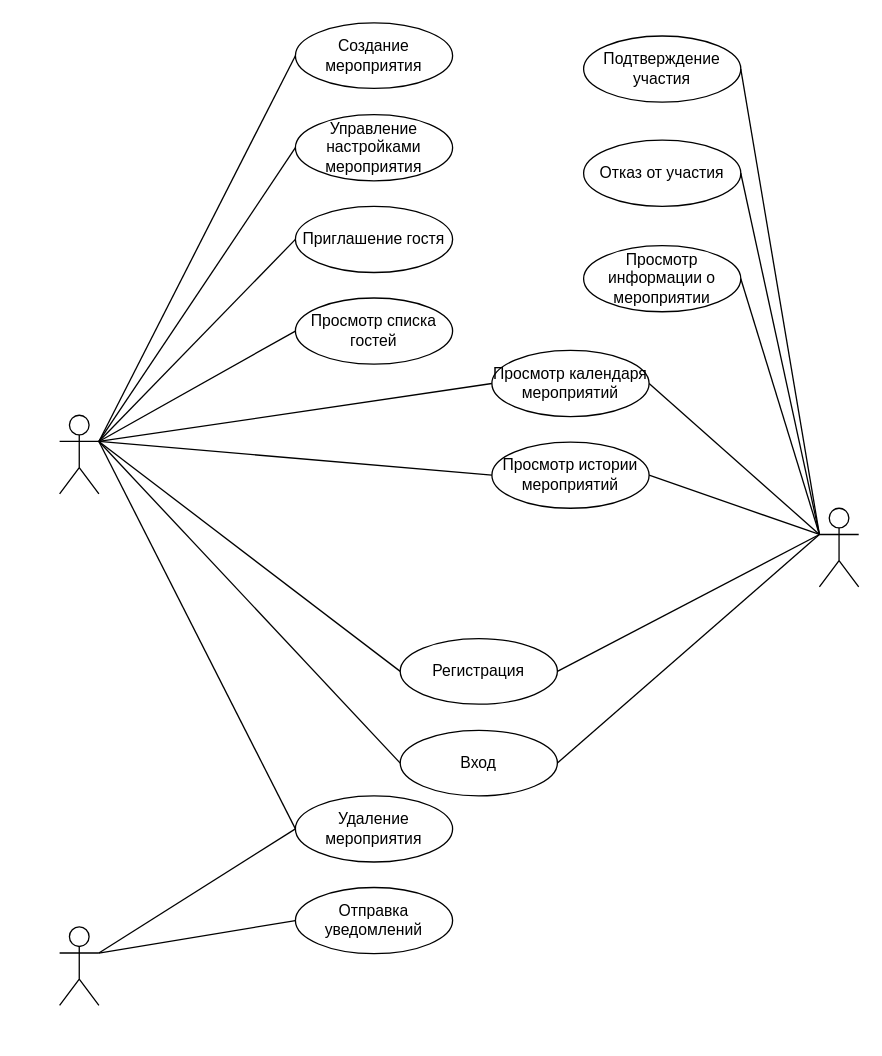
This 882x1056 diagram has some shape labels left out. Here are the shapes that lost their labels. From the top down, the centre of each, then its label:
At (x=78, y=454): "Организатор".
At (x=838, y=547): "Гость".
At (x=78, y=965): "Администратор".
